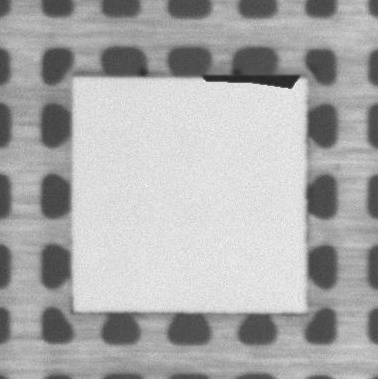DIE_BROKEN: (203, 69, 305, 90)
